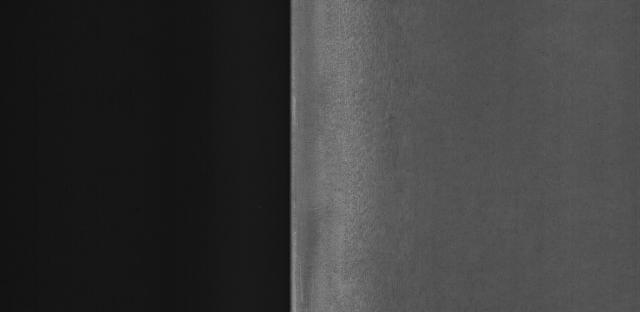silk_spot: (338, 47, 415, 265)
